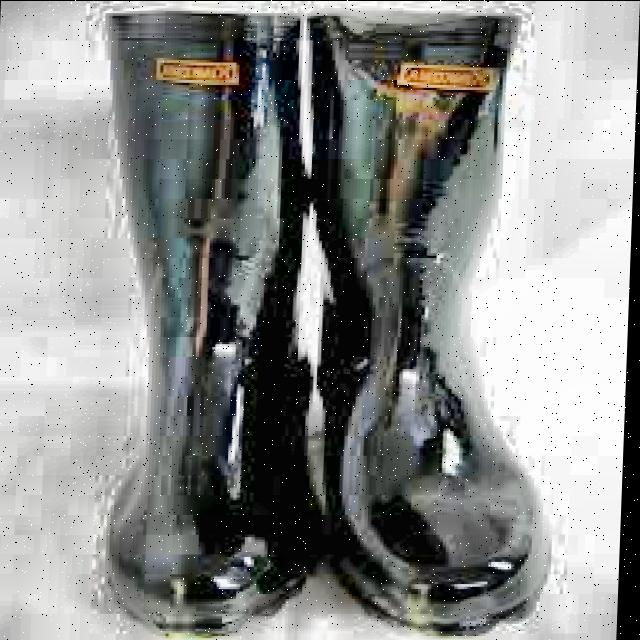shoes: (72, 0, 594, 640)
